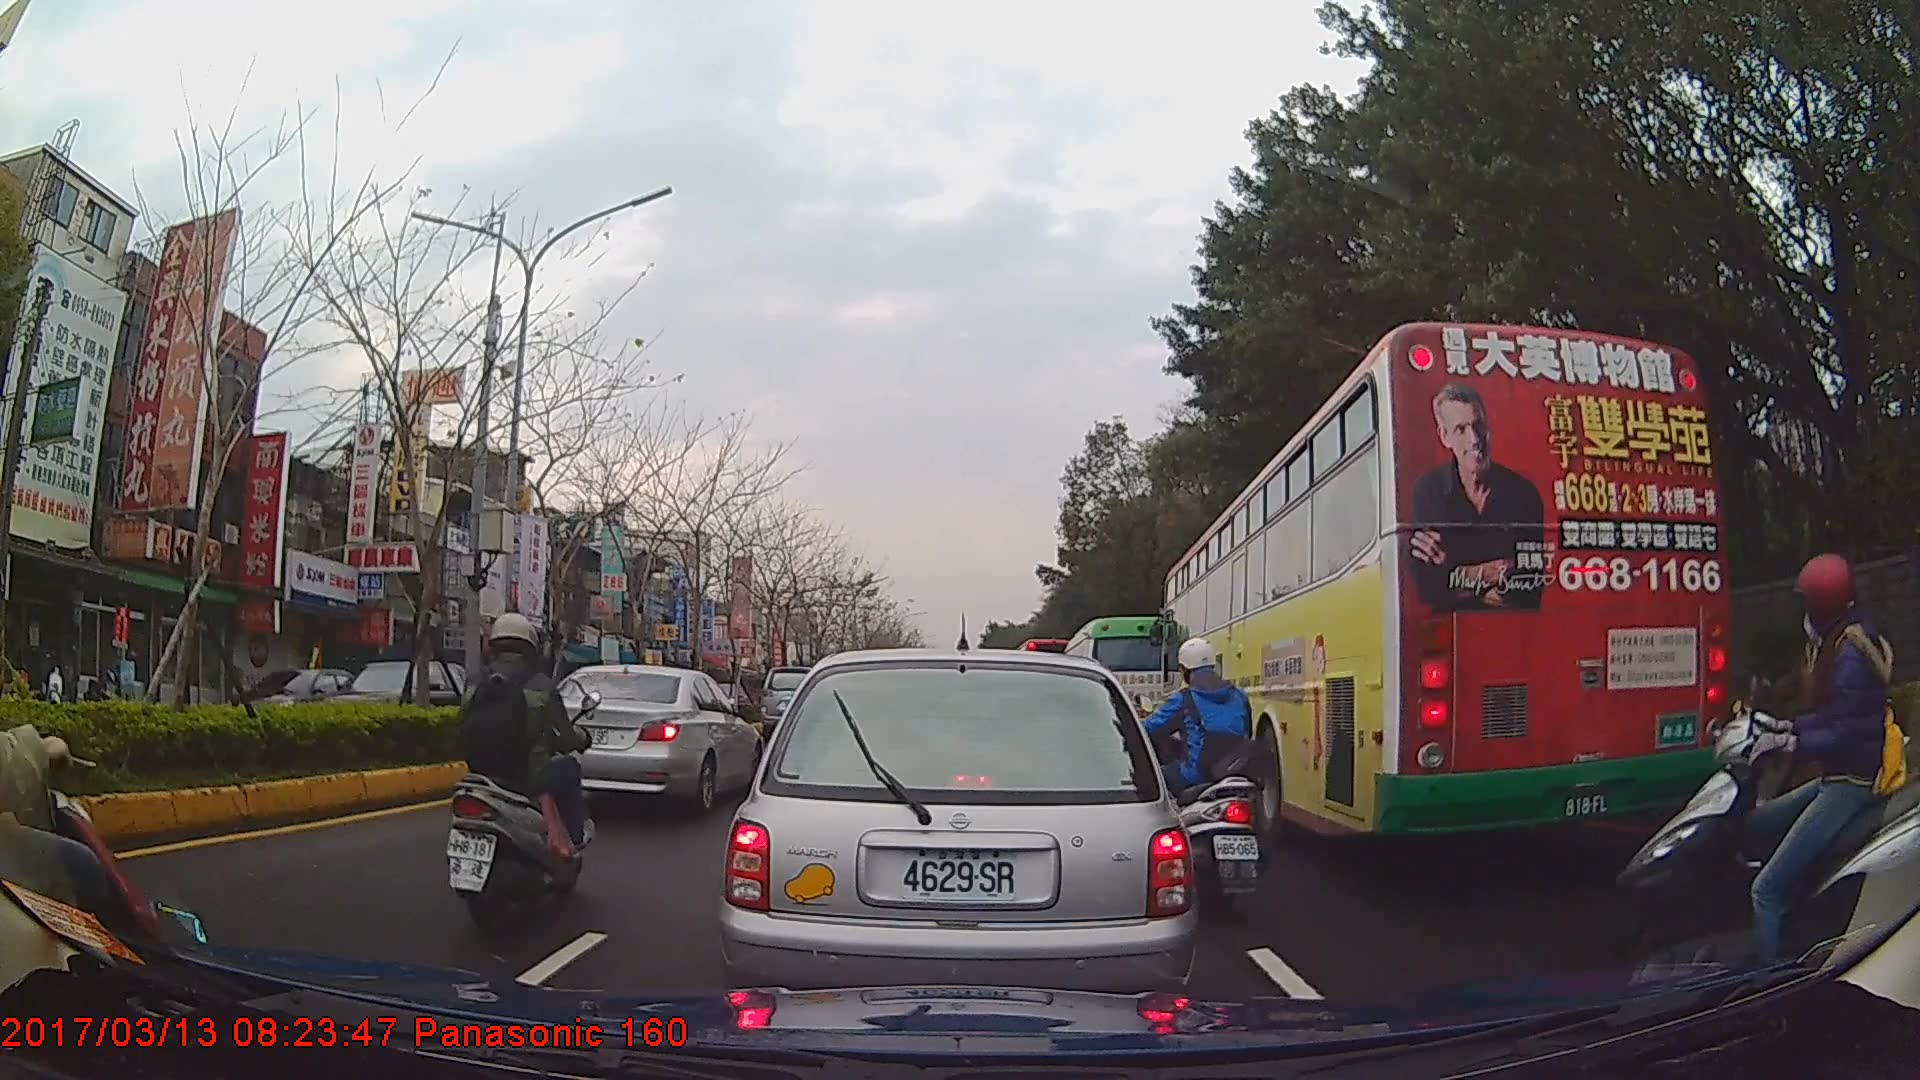rider: (1597, 557, 1920, 1000), (442, 615, 596, 927), (1140, 636, 1267, 917)
vehicle: (1160, 319, 1727, 850), (716, 647, 1196, 1030), (527, 660, 760, 815), (1058, 616, 1187, 763), (308, 658, 511, 750), (210, 660, 403, 736)
